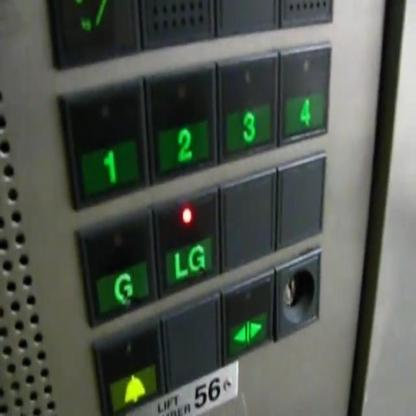1: (80, 138, 144, 199)
2: (156, 117, 212, 168)
3: (225, 107, 272, 148)
4: (284, 91, 324, 131)
G: (94, 260, 149, 315)
LG: (164, 235, 212, 282)
alarm: (108, 365, 157, 406)
open: (229, 308, 269, 354)
